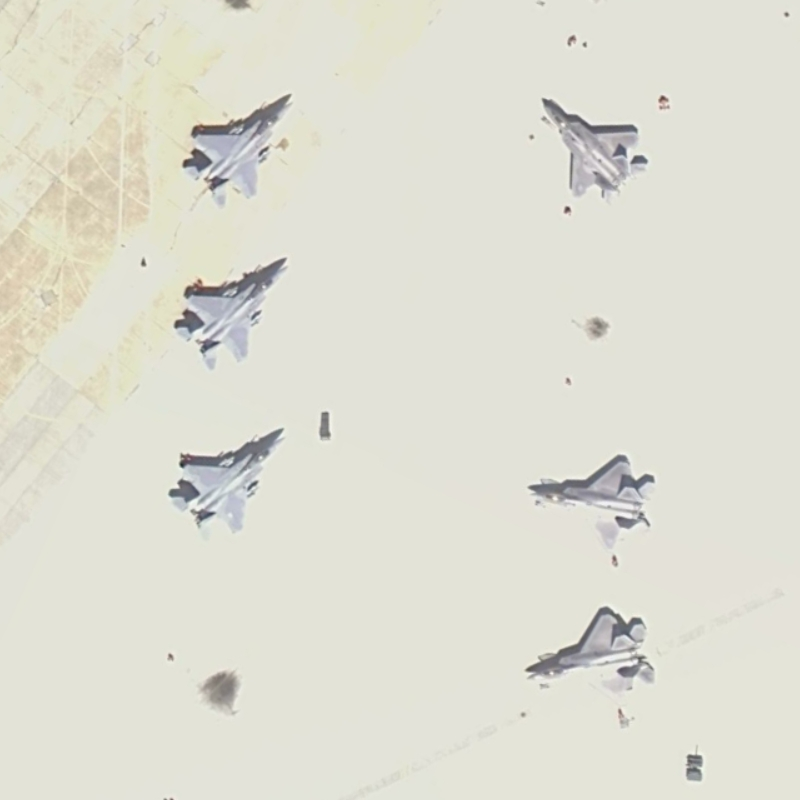A13: (161, 422, 289, 542), (169, 255, 291, 378), (181, 88, 295, 211)
A15: (532, 86, 657, 207), (519, 600, 662, 704), (524, 450, 659, 558)
